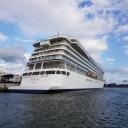cruises: (8, 34, 106, 97)
